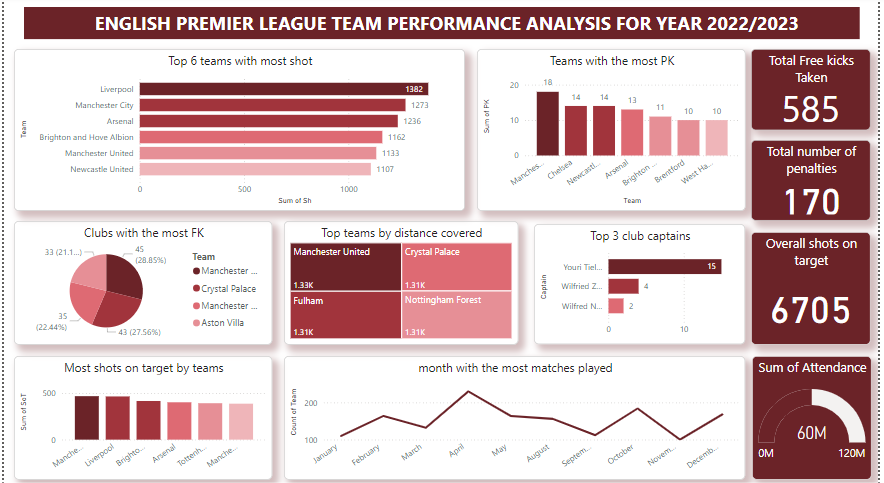

The dashboard page shown, as its layout file describes it:
{"tool":"powerbi","page":{"name":"Page 1","canvas":[1280,720],"ordinal":0},"visuals":[{"type":"textbox","box":[28.6,15.1,1222.9,47],"z":0},{"type":"barChart","title":"Top 6 teams with most shot","fields":{"Category":["EPL.Team"],"Y":["EPL.Sh"]},"box":[15.1,75.6,660.2,236.9],"z":1000},{"type":"columnChart","title":"Teams with the most PK","fields":{"Y":["EPL.PK"],"Category":["EPL.Team"]},"box":[692.1,75.6,393.1,236.9],"z":2000},{"type":"pieChart","title":"Clubs with the most FK","fields":{"Category":["EPL.Team"],"Y":["EPL.FK"]},"box":[15.1,327.6,378,181.4],"z":3000},{"type":"treemap","title":"Top teams by distance covered","fields":{"Group":["EPL.Team"],"Values":["EPL.Dist"]},"box":[409.9,327.6,342.7,181.4],"z":4000},{"type":"barChart","title":"Top 3 club captains","fields":{"Category":["EPL.Captain"],"Y":["EPL.Team"]},"box":[776.1,332.6,309.1,176.4],"z":5000},{"type":"columnChart","title":"Most shots on target by teams","fields":{"Y":["EPL.SoT"],"Category":["EPL.Team"]},"box":[15.1,525.8,378,181.4],"z":6000},{"type":"lineChart","title":"month with the most matches played","fields":{"Y":["EPL.Team"],"Category":["EPL.Date.Variation.Date Hierarchy.Month"]},"box":[409.9,525.8,675.3,181.4],"z":7000},{"type":"card","title":"Total Free kicks Taken","fields":{"Values":["EPL.FK"]},"box":[1093.5,75.6,174.7,119.3],"z":8000},{"type":"card","title":"Total number of penalties ","fields":{"Values":["EPL.PK"]},"box":[1093.5,210,174.7,117.6],"z":9000},{"type":"card","title":"Overall shots on target","fields":{"Values":["EPL.SoT"]},"box":[1093.5,344.4,174.7,164.6],"z":10000},{"type":"gauge","fields":{"Y":["EPL.Attendance"]},"box":[1094,526,175,181],"z":11000}]}

Visuals, with their boxes in screenshot pixels (x1, y1, x2, y2), scaled from the page's 1280x720 canvas onto the 884x483 screenshot:
textbox: box(20, 10, 864, 42)
"Top 6 teams with most shot" barChart: box(10, 51, 466, 210)
"Teams with the most PK" columnChart: box(478, 51, 749, 210)
"Clubs with the most FK" pieChart: box(10, 220, 271, 341)
"Top teams by distance covered" treemap: box(283, 220, 520, 341)
"Top 3 club captains" barChart: box(536, 223, 749, 341)
"Most shots on target by teams" columnChart: box(10, 353, 271, 474)
"month with the most matches played" lineChart: box(283, 353, 749, 474)
"Total Free kicks Taken" card: box(755, 51, 876, 131)
"Total number of penalties " card: box(755, 141, 876, 220)
"Overall shots on target" card: box(755, 231, 876, 341)
gauge - EPL.Attendance: box(756, 353, 876, 474)
